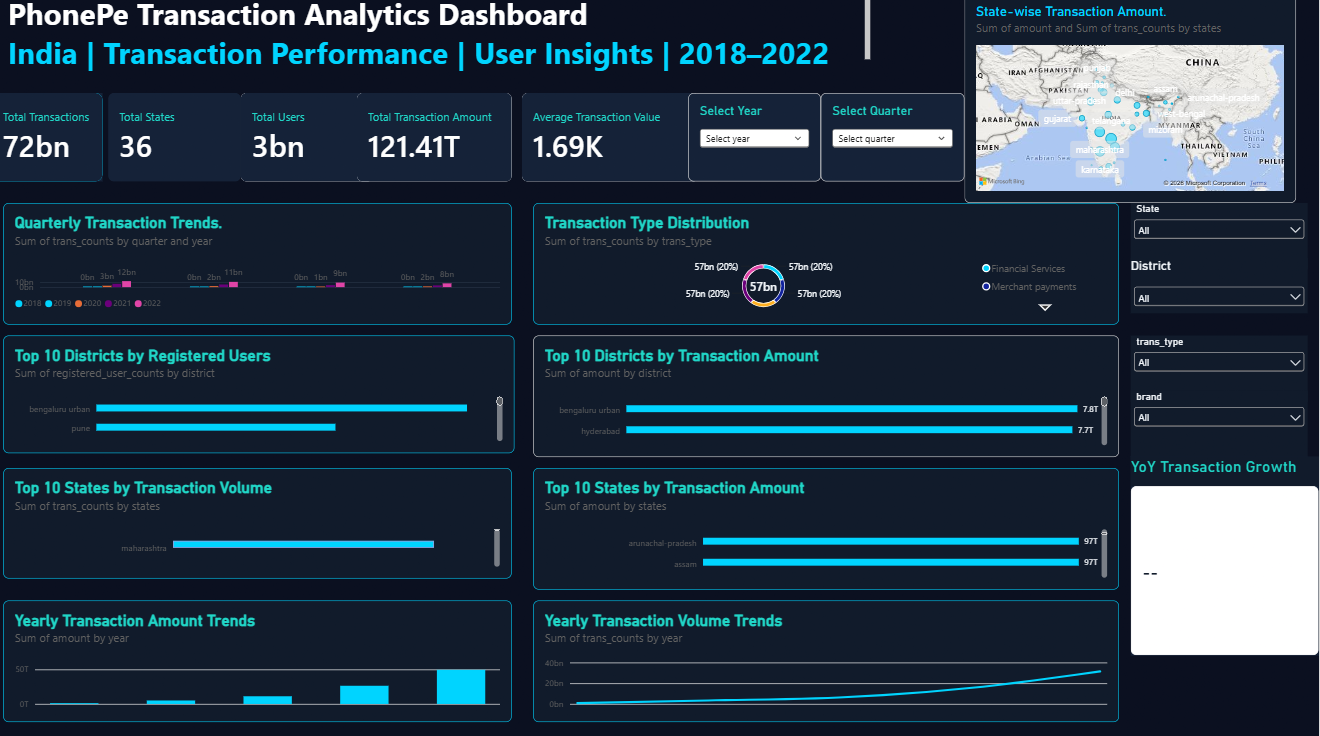

The page's visual inventory and layout, read from the dashboard file:
{"tool":"powerbi","page":{"name":"Page 1","canvas":[1920,1080],"ordinal":0},"visuals":[{"type":"cardVisual","fields":{"Data":["DimQuarter.Total Transactions"]},"box":[0,144,160,128],"z":0},{"type":"cardVisual","fields":{"Data":["DimQuarter.Total Users"]},"box":[360,144,192,128],"z":1000},{"type":"cardVisual","fields":{"Data":["DimQuarter.Total Transaction Amount"]},"box":[528,144,224,128],"z":2000},{"type":"cardVisual","fields":{"Data":["DimQuarter.Average Transaction Value"]},"box":[768,144,256,128],"z":3000},{"type":"cardVisual","fields":{"Data":["DimQuarter.Total States"]},"box":[168,144,192,128],"z":4000},{"type":"clusteredColumnChart","title":"Quarterly Transaction Trends.","fields":{"Category":["aggregated_transaction.quarter"],"Series":["aggregated_transaction.year"],"Y":["Sum(aggregated_transaction.trans_counts)"]},"box":[16,304,736,176],"z":5000},{"type":"barChart","title":"Top 10 States by Transaction Volume","fields":{"Category":["top_transaction.states"],"Y":["Sum(top_transaction.trans_counts)"]},"box":[16,688,736,160],"z":6000},{"type":"listSlicer","title":"Select Quarter","fields":{"Values":["DimQuarter.quarter"]},"box":[1200,144,208,128],"z":7000},{"type":"listSlicer","title":"Select Year","fields":{"Values":["DimYear.year"]},"box":[1008,144,192,128],"z":8000},{"type":"clusteredBarChart","title":"Top 10 Districts by Transaction Amount","fields":{"Category":["top_transaction.district"],"Y":["Sum(top_transaction.amount)"]},"box":[784,496,848,176],"z":9000},{"type":"lineChart","title":"Yearly Transaction Volume Trends","fields":{"Category":["top_transaction.year"],"Y":["Sum(top_transaction.trans_counts)"]},"box":[784,872,848,208],"z":10000},{"type":"clusteredColumnChart","title":"Yearly Transaction Amount Trends","fields":{"Category":["top_transaction.year"],"Y":["Sum(top_transaction.amount)"]},"box":[16,872,736,208],"z":11000},{"type":"clusteredBarChart","title":"Top 10 Districts by Registered Users","fields":{"Category":["top_user.district"],"Y":["Sum(top_user.registered_user_counts)"]},"box":[16,496,740,170],"z":12000},{"type":"donutChart","title":"Transaction Type Distribution","fields":{"Category":["aggregated_transaction.trans_type"],"Y":["Sum(top_transaction.trans_counts)"]},"box":[784,304,848,176],"z":13000},{"type":"clusteredBarChart","title":"Top 10 States by Transaction Amount","fields":{"Category":["top_transaction.states"],"Y":["Sum(aggregated_transaction.amount)"]},"box":[784,688,848,176],"z":14000},{"type":"textbox","box":[24,0,1248,120],"z":15000},{"type":"map","title":"State-wise Transaction Amount.","fields":{"Category":["top_transaction.states"],"Size":["Sum(top_transaction.amount)"]},"box":[1408,0,480,304],"z":16000},{"type":"slicer","title":"State","fields":{"Values":["DimState.State"]},"box":[1648,304,256,96],"z":17000},{"type":"slicer","title":"District","fields":{"Values":["top_transaction.district"]},"box":[1648,384,256,80],"z":18000},{"type":"slicer","title":"Trans Type","fields":{"Values":["aggregated_transaction.trans_type"]},"box":[1648,496,256,96],"z":19000},{"type":"slicer","title":"Brand","fields":{"Values":["aggregated_user.brand"]},"box":[1648,576,256,96],"z":20000},{"type":"cardVisual","title":"YoY Transaction Growth","fields":{"Data":["YoY Transaction Growth %.YoY Growth Test"]},"box":[1648,672,272,288],"z":21000}]}

Visuals, with their boxes in screenshot pixels (x1, y1, x2, y2), scaled from the page's 1920x1080 canvas onto the 1320x736 screenshot:
cardVisual - DimQuarter.Total Transactions: pyautogui.locateOnScreen(0, 98, 110, 185)
cardVisual - DimQuarter.Total Users: pyautogui.locateOnScreen(248, 98, 380, 185)
cardVisual - DimQuarter.Total Transaction Amount: pyautogui.locateOnScreen(363, 98, 517, 185)
cardVisual - DimQuarter.Average Transaction Value: pyautogui.locateOnScreen(528, 98, 704, 185)
cardVisual - DimQuarter.Total States: pyautogui.locateOnScreen(116, 98, 248, 185)
"Quarterly Transaction Trends." clusteredColumnChart: pyautogui.locateOnScreen(11, 207, 517, 327)
"Top 10 States by Transaction Volume" barChart: pyautogui.locateOnScreen(11, 469, 517, 578)
"Select Quarter" listSlicer: pyautogui.locateOnScreen(825, 98, 968, 185)
"Select Year" listSlicer: pyautogui.locateOnScreen(693, 98, 825, 185)
"Top 10 Districts by Transaction Amount" clusteredBarChart: pyautogui.locateOnScreen(539, 338, 1122, 458)
"Yearly Transaction Volume Trends" lineChart: pyautogui.locateOnScreen(539, 594, 1122, 735)
"Yearly Transaction Amount Trends" clusteredColumnChart: pyautogui.locateOnScreen(11, 594, 517, 735)
"Top 10 Districts by Registered Users" clusteredBarChart: pyautogui.locateOnScreen(11, 338, 520, 454)
"Transaction Type Distribution" donutChart: pyautogui.locateOnScreen(539, 207, 1122, 327)
"Top 10 States by Transaction Amount" clusteredBarChart: pyautogui.locateOnScreen(539, 469, 1122, 589)
textbox: pyautogui.locateOnScreen(16, 0, 874, 82)
"State-wise Transaction Amount." map: pyautogui.locateOnScreen(968, 0, 1298, 207)
"State" slicer: pyautogui.locateOnScreen(1133, 207, 1309, 273)
"District" slicer: pyautogui.locateOnScreen(1133, 262, 1309, 316)
"Trans Type" slicer: pyautogui.locateOnScreen(1133, 338, 1309, 403)
"Brand" slicer: pyautogui.locateOnScreen(1133, 393, 1309, 458)
"YoY Transaction Growth" cardVisual: pyautogui.locateOnScreen(1133, 458, 1319, 654)
